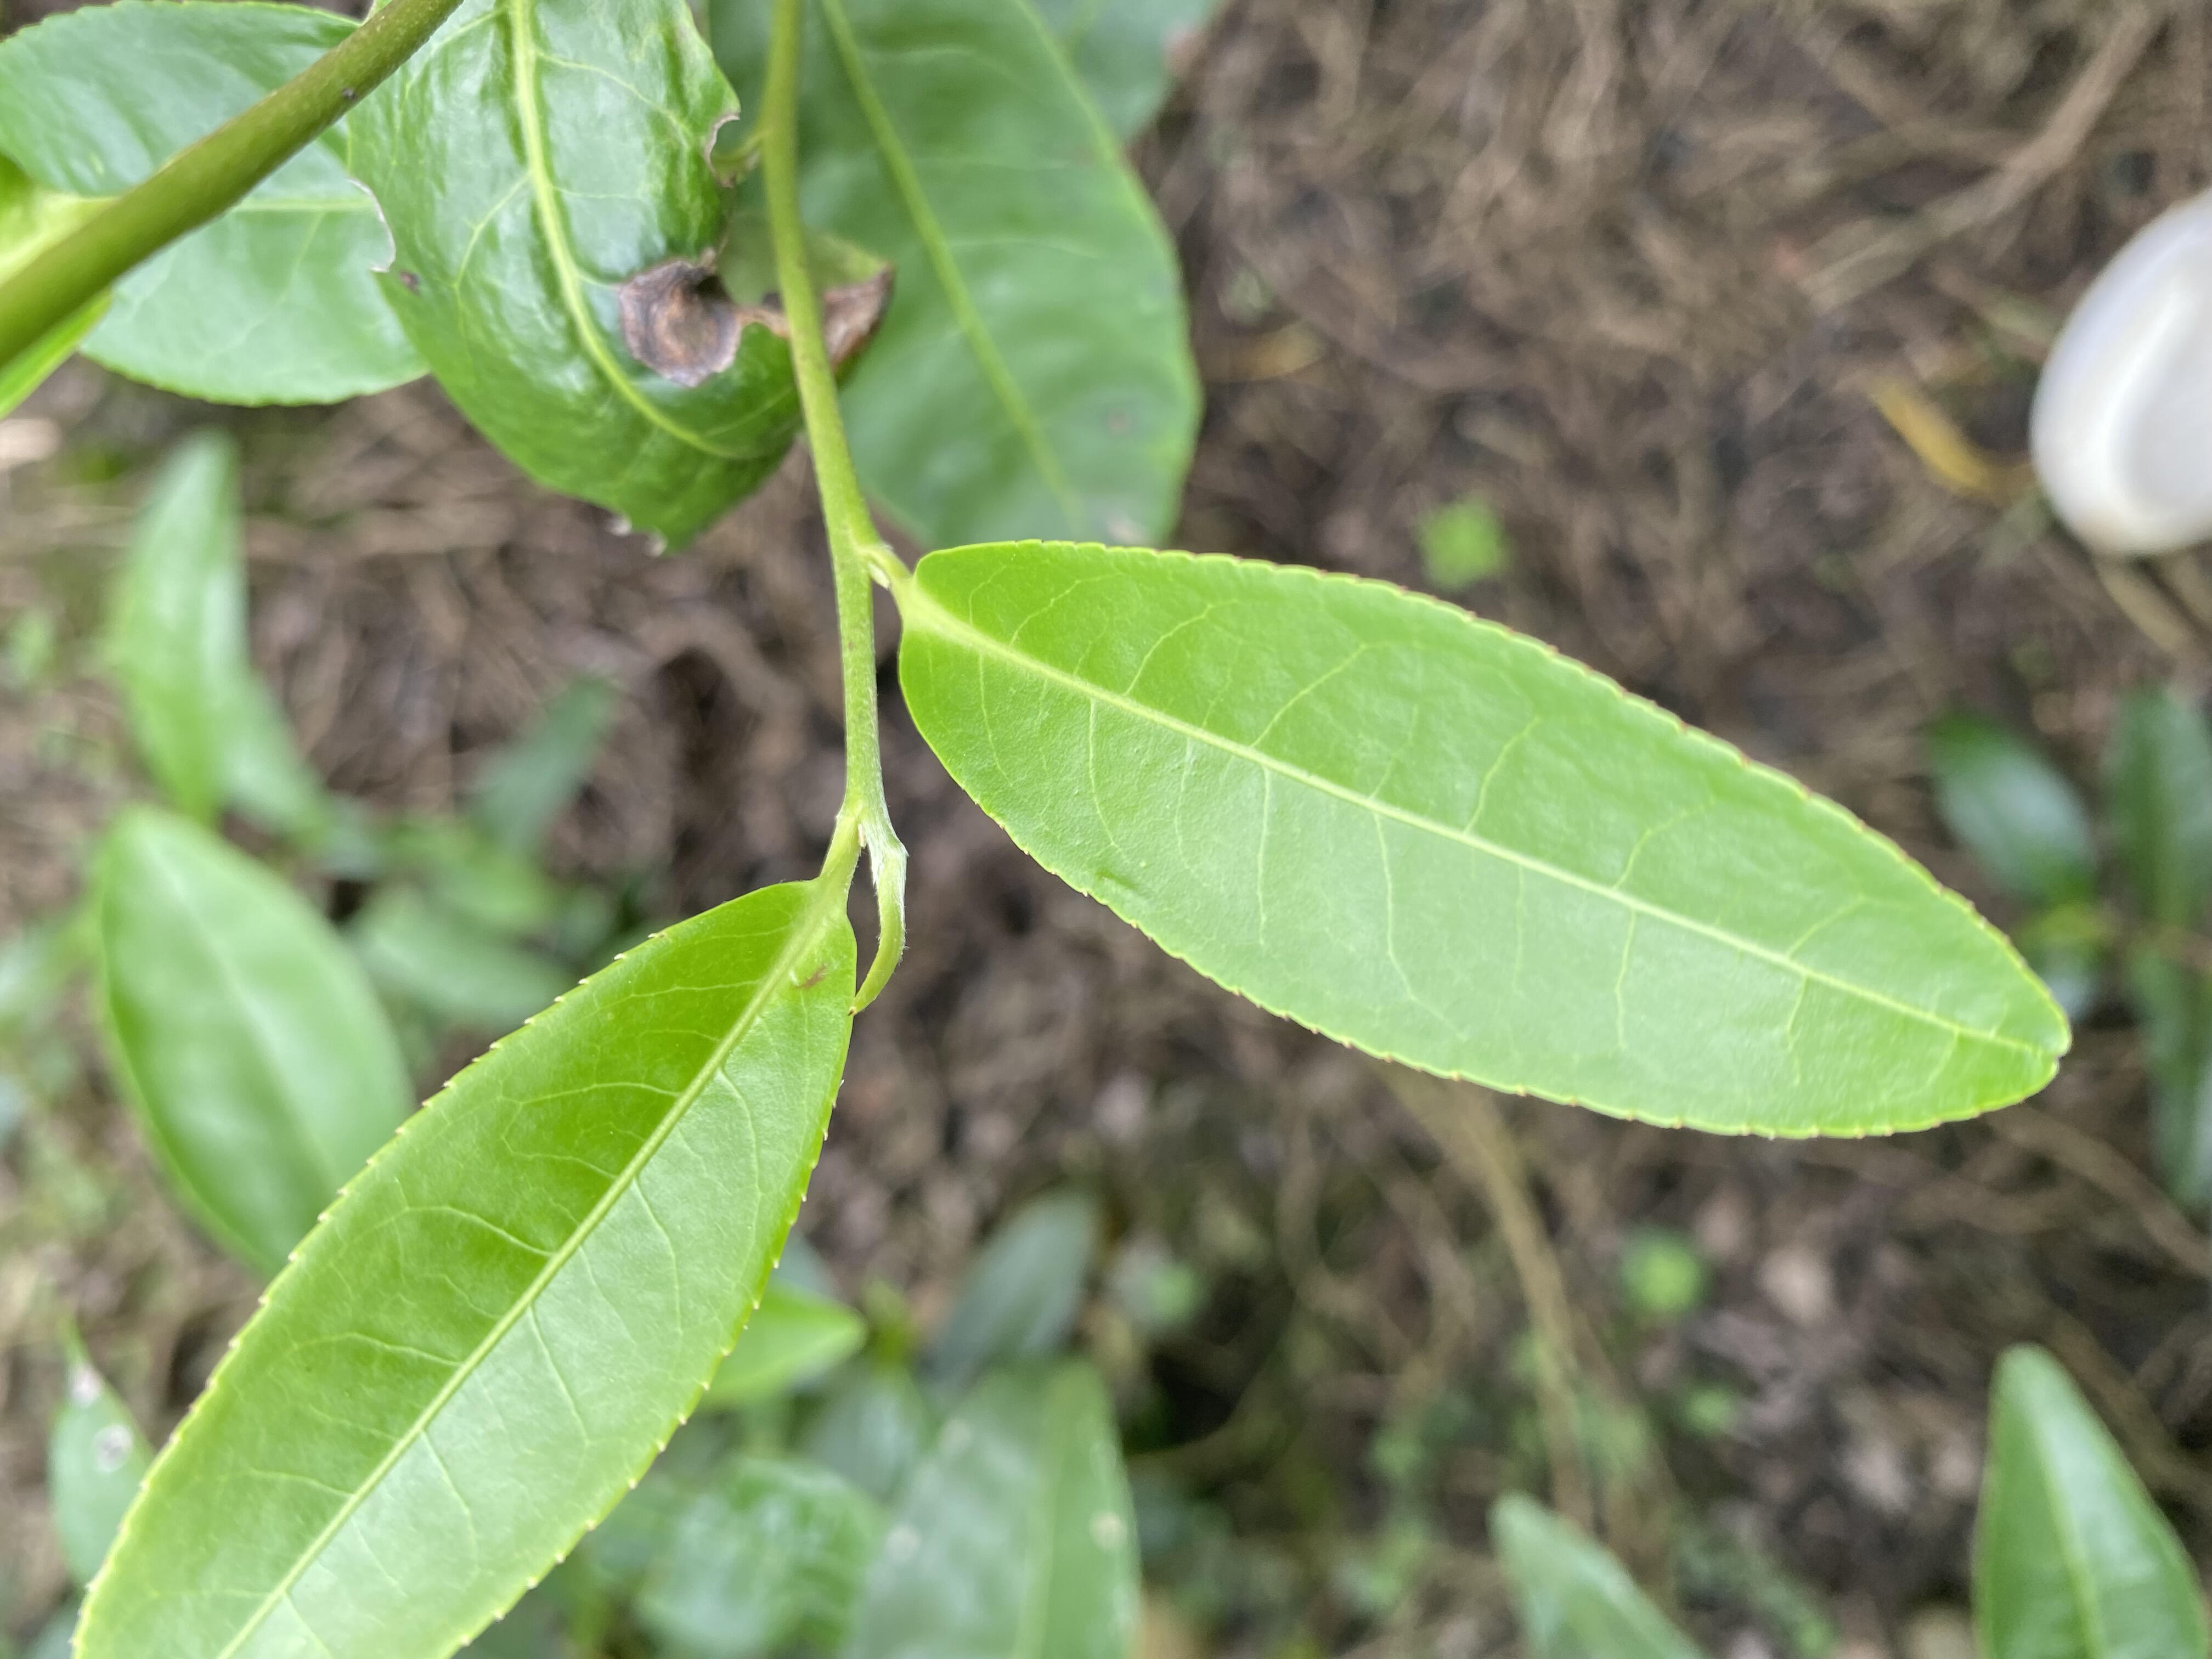healthy: (899, 537, 2074, 1141), (64, 877, 859, 1654)
tanju_high: (343, 3, 899, 563)
